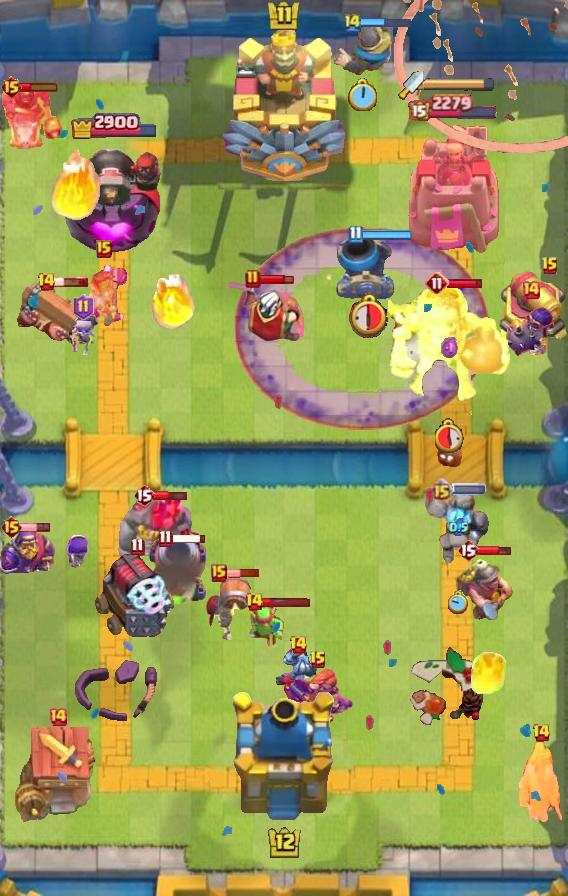bandit: (454, 551, 516, 623)
bar: (406, 122, 500, 256)
battle-healer: (13, 279, 101, 351)
bomber: (436, 437, 464, 469)
cannoneer-tower: (118, 491, 200, 593)
electro-giant: (388, 281, 512, 405)
electro-spirit: (440, 336, 459, 360), (448, 519, 468, 538)
elixir: (344, 290, 387, 337), (349, 78, 379, 114), (435, 419, 465, 453), (447, 590, 469, 614)
emote: (360, 16, 412, 29), (5, 81, 59, 93), (261, 596, 311, 608), (360, 230, 411, 240), (476, 543, 512, 556), (153, 489, 188, 502), (53, 276, 89, 288), (450, 483, 486, 495), (258, 273, 293, 285), (13, 523, 51, 534), (448, 278, 485, 289), (170, 532, 207, 543), (224, 568, 259, 578)
firecracker: (334, 17, 394, 74)
firecracker-evolution: (0, 525, 56, 574)
freeze: (0, 84, 64, 152)
giant-snowball: (244, 602, 286, 648)
goblin: (67, 315, 99, 357), (66, 533, 91, 569)
goblin-ball: (504, 305, 558, 361)
goblin-cage: (145, 534, 209, 604)
goblin-hut: (519, 742, 564, 826)
golem: (92, 548, 182, 640)
king-tower: (220, 21, 348, 181), (227, 692, 341, 826)
king-tower-bar: (424, 77, 496, 91)
knight: (204, 575, 254, 643)
musketeer: (336, 235, 396, 299)
rocket: (234, 227, 490, 431)
royal-delivery: (276, 648, 320, 686)
royal-recruit: (496, 270, 568, 344)
selected: (409, 93, 500, 121), (69, 111, 158, 139)
skeleton-barrel: (382, 1, 568, 156)
skeleton-king: (224, 277, 308, 343)
sparky: (15, 726, 101, 824)
tesla-evolution: (282, 668, 354, 726), (78, 262, 130, 330)
text: (425, 271, 449, 295), (430, 478, 454, 502), (1, 75, 24, 99), (1, 515, 24, 539), (73, 294, 94, 320), (133, 483, 155, 507), (457, 538, 479, 562), (343, 12, 363, 33), (36, 272, 56, 292), (521, 280, 541, 300), (244, 592, 264, 612), (288, 635, 308, 655), (48, 707, 68, 727), (532, 723, 551, 743), (541, 256, 559, 276), (309, 650, 327, 670), (245, 269, 261, 289), (96, 240, 112, 258), (211, 564, 227, 582), (349, 225, 364, 244), (159, 528, 174, 547), (131, 537, 146, 555)
tower-bar: (62, 138, 166, 256)
valkyrie: (48, 135, 108, 225), (147, 266, 197, 332), (469, 648, 509, 696)
valkyrie-evolution: (421, 488, 495, 570)
